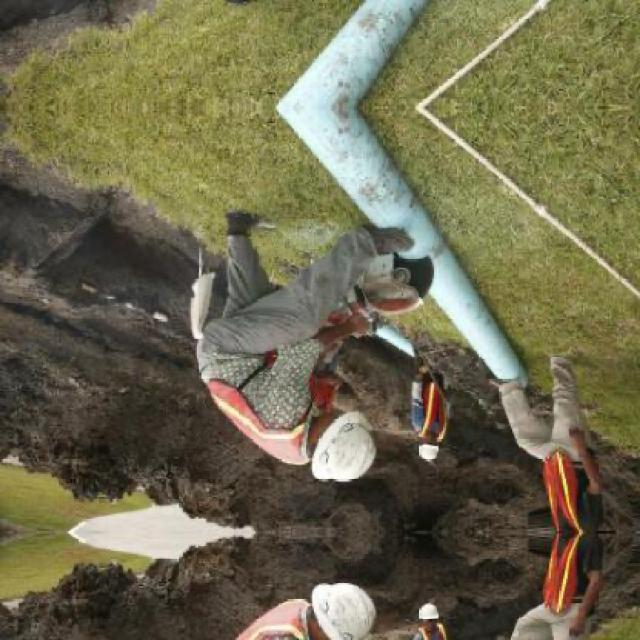con casco: (255, 374, 389, 493), (402, 419, 457, 468)
